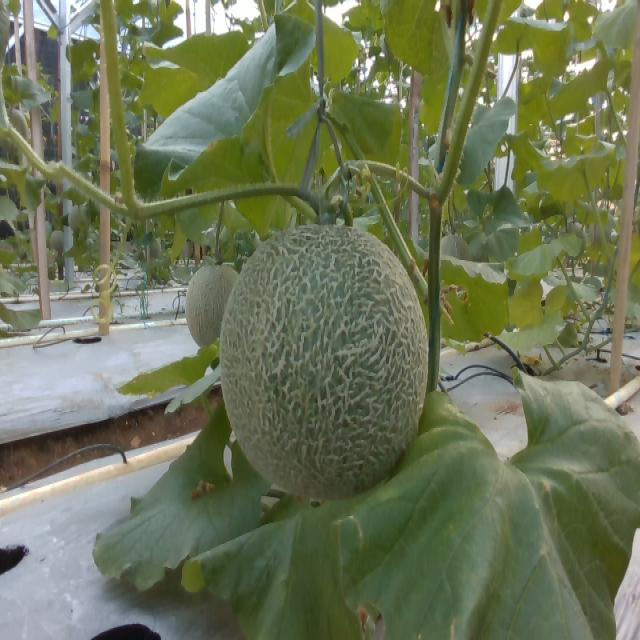melon: (222, 225, 428, 501)
